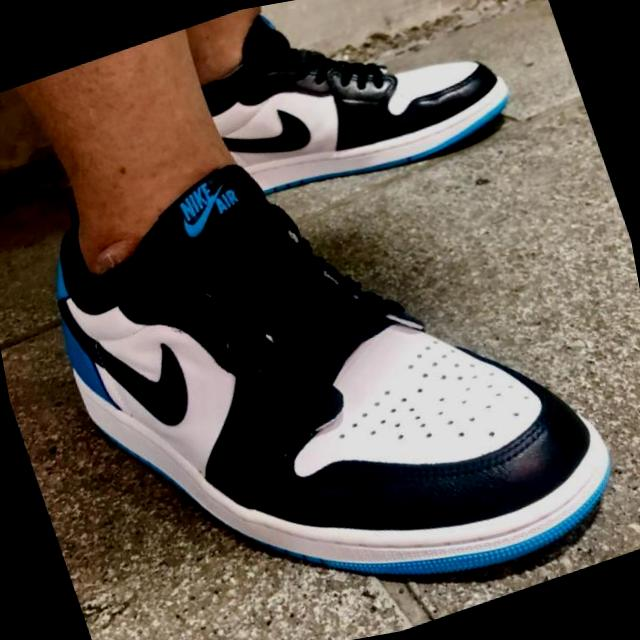nike_original_jordan: (0, 55, 636, 640)
